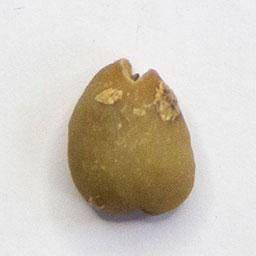defect: (65, 55, 199, 219)
